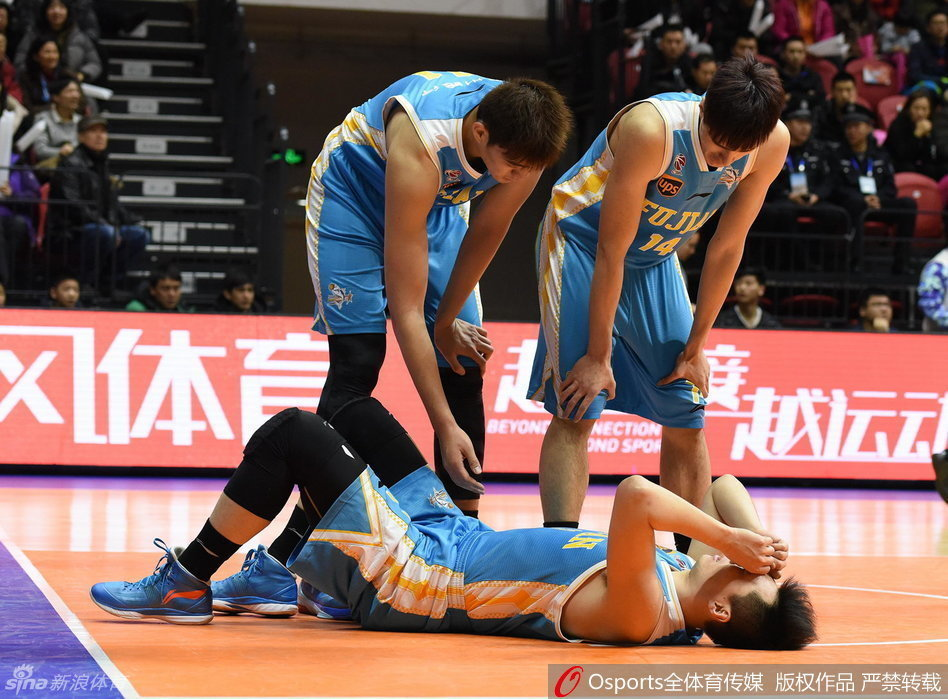10+: (8, 16, 948, 512)
down: (76, 378, 824, 655)
